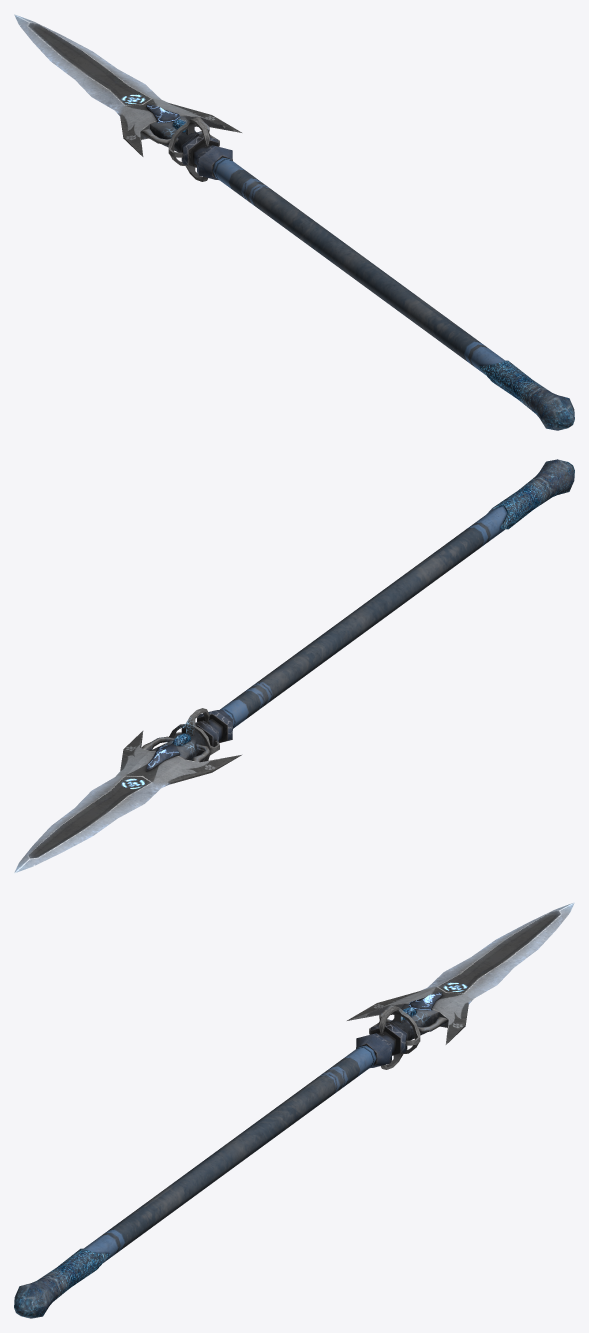
The model's file is spear.glb.
3 views of the same model, one above another, from view 1: azimuth 30°, elevation 25°; view 2: azimuth 150°, elevation 25°; view 3: azimuth 330°, elevation 25° (orthographic).
Parts seen in each view (by area): view 1: Cylinder.001, Plane, Cylinder.003, Cylinder.002, Circle, Plane.001; view 2: Cylinder.001, Plane, Cylinder.003, Cylinder.002, Circle, Plane.001; view 3: Cylinder.001, Plane, Cylinder.003, Cylinder.002, Circle, Plane.001.
Boxes of the visible parts, x1=… form: Cylinder.001: x1=212, y1=157, x2=505, y2=374; Plane: x1=14, y1=14, x2=241, y2=156; Cylinder.003: x1=478, y1=360, x2=574, y2=430; Cylinder.002: x1=181, y1=134, x2=232, y2=179; Circle: x1=168, y1=118, x2=219, y2=181; Plane.001: x1=150, y1=115, x2=199, y2=152; Cylinder.001: x1=220, y1=506, x2=507, y2=728; Plane: x1=14, y1=730, x2=242, y2=873; Cylinder.003: x1=487, y1=459, x2=574, y2=529; Cylinder.002: x1=181, y1=709, x2=232, y2=754; Circle: x1=168, y1=708, x2=219, y2=761; Plane.001: x1=150, y1=731, x2=205, y2=760; Cylinder.001: x1=83, y1=1045, x2=376, y2=1262; Plane: x1=347, y1=902, x2=574, y2=1044; Cylinder.003: x1=14, y1=1248, x2=110, y2=1318; Cylinder.002: x1=356, y1=1022, x2=407, y2=1067; Circle: x1=369, y1=1006, x2=420, y2=1069; Plane.001: x1=389, y1=1003, x2=438, y2=1040.
Bounding box in the file's own units: 1.08 × 0.599 × 10.47.
1 material, 1 textured.
